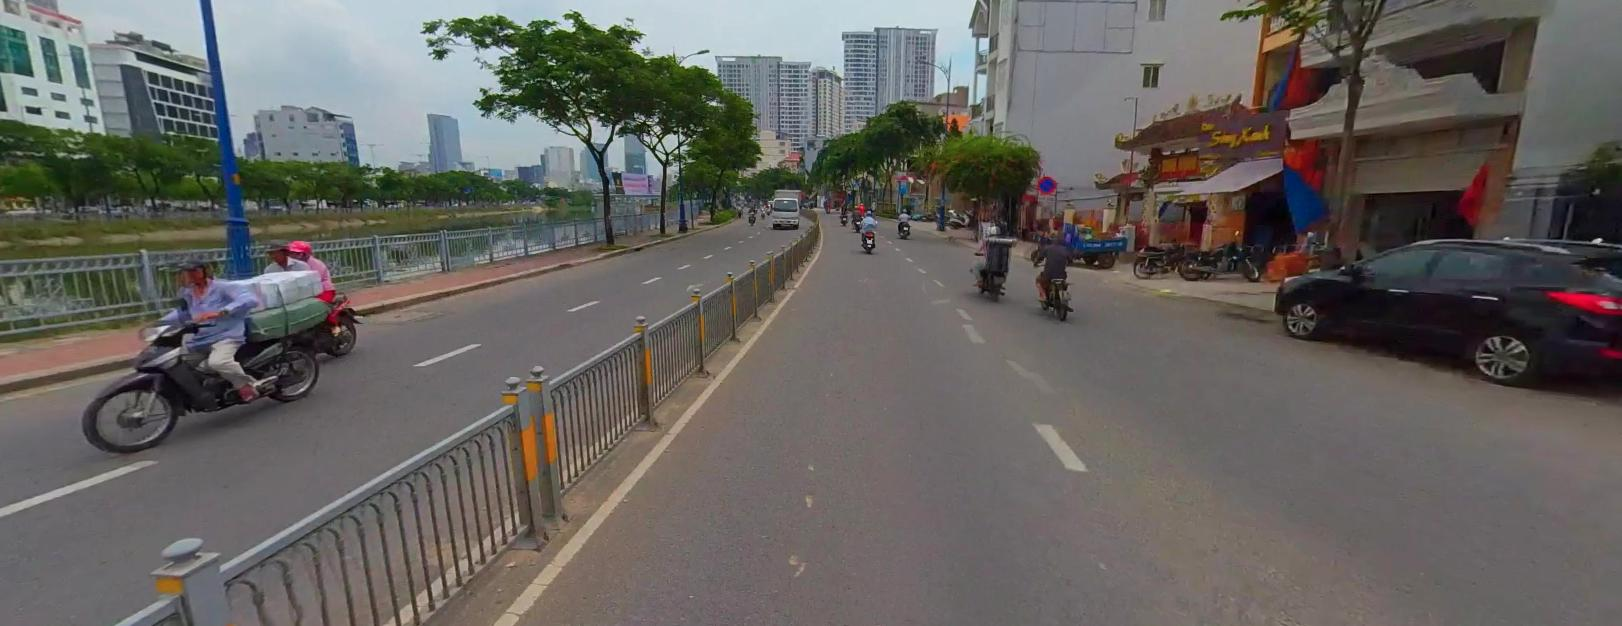Cam dung va do: (1037, 175, 1056, 193)
